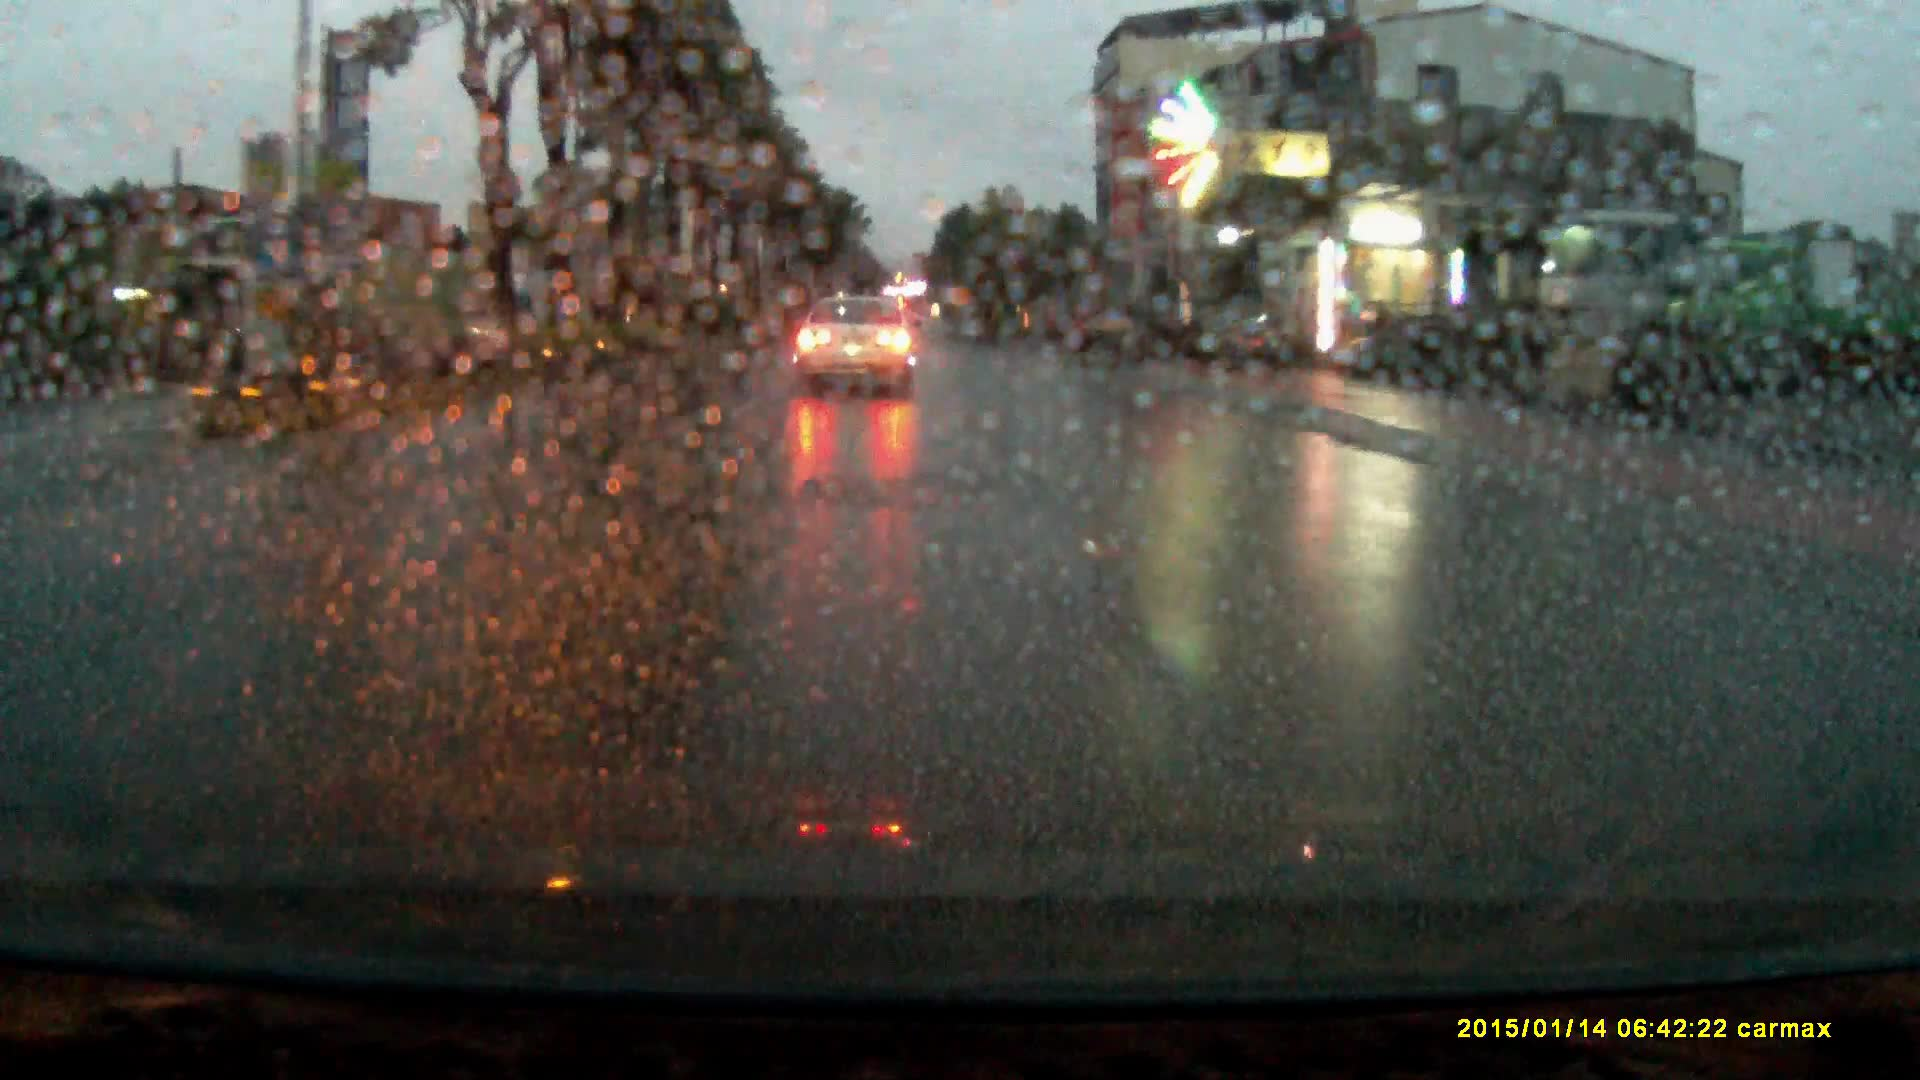vehicle: (1636, 247, 1920, 398), (1524, 214, 1687, 382), (793, 299, 916, 406), (469, 277, 572, 345)
